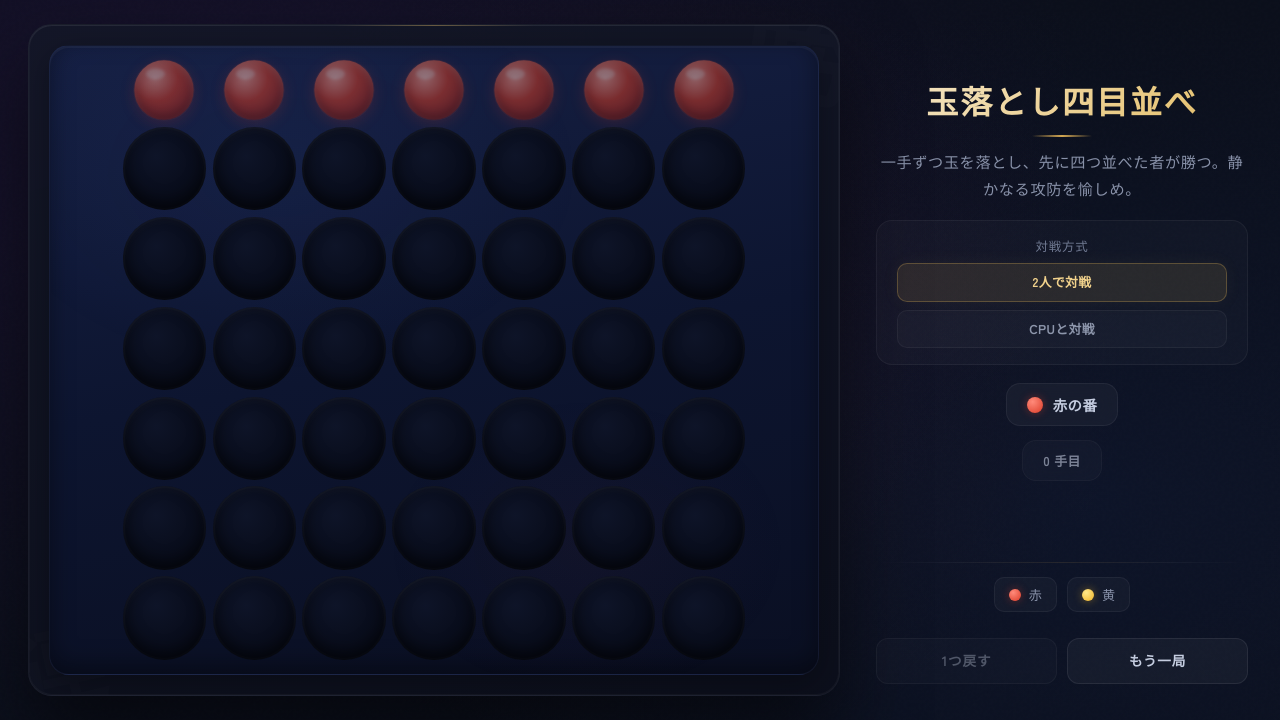
Test: board interaction › drops a disc when a cell in that column is tapped
Step 1. Click the element with test id "cell-0-2" → click(344, 169), box [302,127,386,210]
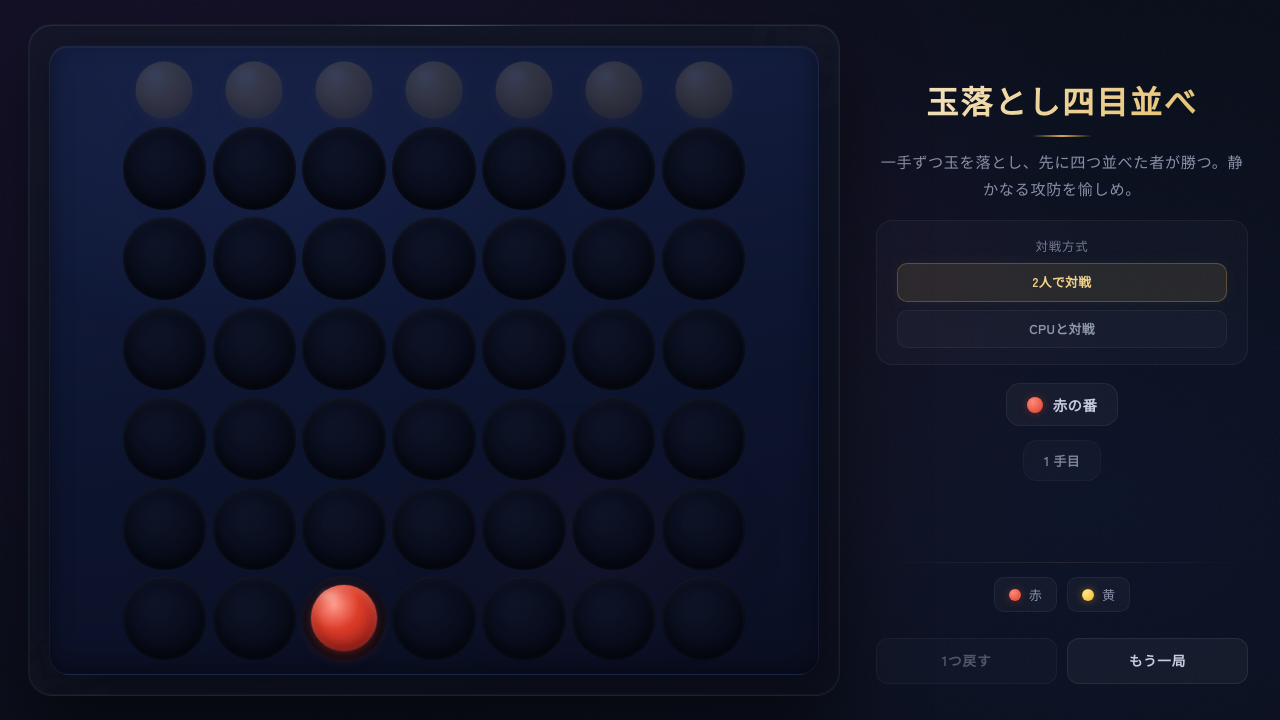
Expected: the element with test id "disc-5-2" is shown, [311,585,377,651]
Expected: the text "1 手目" is shown, [1044,451,1080,470]
